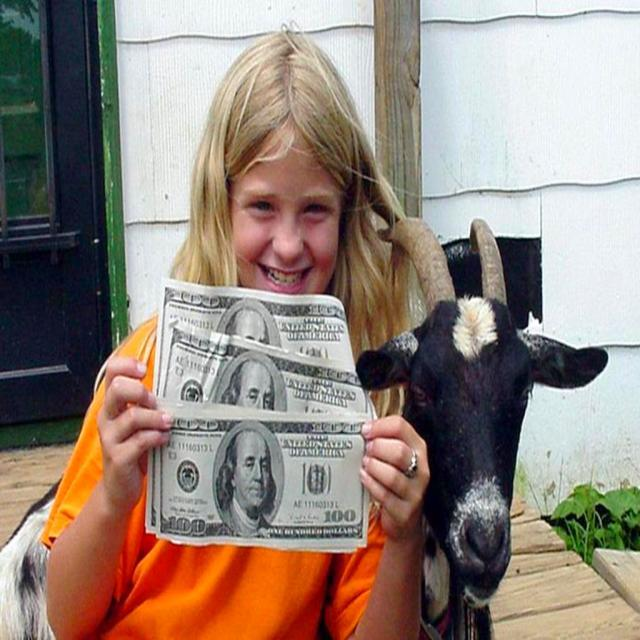Goat: (1, 215, 608, 638), (354, 212, 608, 636)
